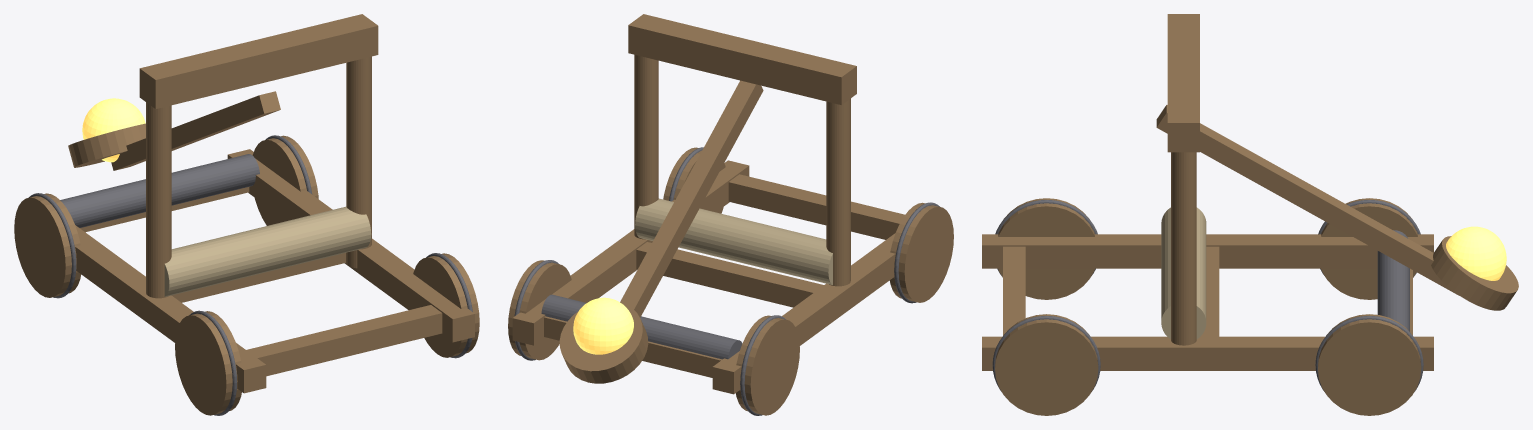
Rendered from catapult.glb.
3 renders of one model, left to right at view 1: azimuth 30°, elevation 25°; view 2: azimuth 150°, elevation 25°; view 3: azimuth 270°, elevation 25°, orthographic. The views are drawn at different scales.
Parts seen in each view (by area): view 1: Cube.005, Cylinder.006, Cube.001, Cube.002, Cube, Cylinder.008, Cylinder, Cylinder.002, Cylinder.004, Cylinder.005, Cube.006, Cylinder.001 (+8 smaller); view 2: Cube.005, Cylinder.006, Cube.006, Cube.001, Cube, Cylinder.002, Cylinder, Cube.003, Cube.002, Cylinder.004, Cylinder.005, Cylinder.007 (+8 smaller); view 3: Cube, Cube.001, Cylinder.001, Cylinder.003, Cube.006, Cylinder.005, Cube.005, Cylinder, Cylinder.002, Cylinder.007, Cylinder.006, Sphere (+6 smaller).
Part boxes in pixels (left/top/right/bottom): Cube.005: left=139, top=14, right=378, bottom=108; Cylinder.006: left=164, top=206, right=371, bottom=296; Cube.001: left=227, top=149, right=474, bottom=342; Cube.002: left=246, top=305, right=442, bottom=376; Cube: left=75, top=225, right=266, bottom=393; Cylinder.008: left=60, top=154, right=259, bottom=227; Cylinder: left=175, top=311, right=241, bottom=415; Cylinder.002: left=14, top=193, right=81, bottom=297; Cylinder.004: left=146, top=102, right=171, bottom=298; Cylinder.005: left=346, top=56, right=371, bottom=268; Cube.006: left=111, top=91, right=280, bottom=170; Cylinder.001: left=413, top=253, right=479, bottom=357; Cube.005: left=628, top=14, right=856, bottom=104; Cylinder.006: left=635, top=198, right=832, bottom=284; Cube.006: left=620, top=80, right=763, bottom=317; Cube.001: left=512, top=160, right=749, bottom=345; Cube: left=712, top=233, right=895, bottom=394; Cylinder.002: left=736, top=315, right=799, bottom=415; Cylinder: left=889, top=202, right=953, bottom=302; Cube.003: left=636, top=242, right=823, bottom=307; Cube.002: left=728, top=174, right=904, bottom=239; Cylinder.004: left=826, top=98, right=850, bottom=286; Cylinder.005: left=634, top=54, right=658, bottom=242; Cylinder.007: left=559, top=303, right=648, bottom=383; Cube: left=982, top=234, right=1433, bottom=268; Cube.001: left=982, top=336, right=1433, bottom=370; Cylinder.001: left=995, top=314, right=1098, bottom=415; Cylinder.003: left=1318, top=314, right=1421, bottom=415; Cube.006: left=1156, top=105, right=1459, bottom=295; Cylinder.005: left=1171, top=152, right=1196, bottom=345; Cube.005: left=1167, top=14, right=1199, bottom=152; Cylinder: left=998, top=198, right=1094, bottom=299; Cylinder.002: left=1321, top=198, right=1417, bottom=299; Cylinder.007: left=1431, top=236, right=1518, bottom=310; Cylinder.006: left=1161, top=207, right=1206, bottom=339; Sphere: left=1446, top=226, right=1506, bottom=280.
Bounding box in the file's own units: 1.82 × 1.96 × 3.33.
